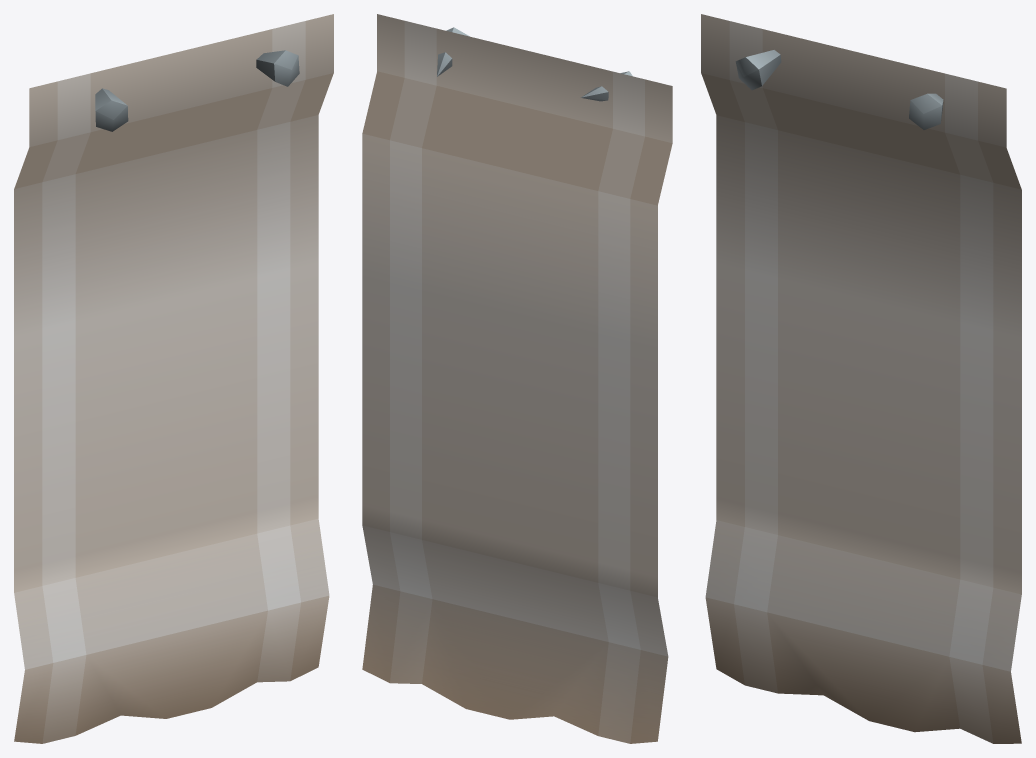
File: banner_white.gltf
3 renders of one model, left to right at view 1: azimuth 30°, elevation 25°; view 2: azimuth 150°, elevation 25°; view 3: azimuth 330°, elevation 25°, orthographic. The views are drawn at different scales.
Parts seen in each view (by area): view 1: banner_white; view 2: banner_white; view 3: banner_white.
Part boxes in pixels (x1=…): banner_white: x1=14, y1=14, x2=333, y2=743; banner_white: x1=362, y1=14, x2=672, y2=743; banner_white: x1=701, y1=14, x2=1021, y2=743.
Bounding box in the file's own units: 1.5 × 3.2 × 0.3119.
Materials: 1 (1 with a texture image).
